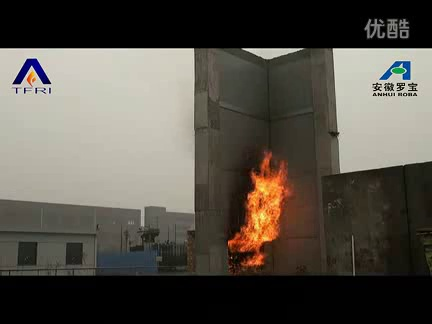fire: (228, 146, 292, 271)
